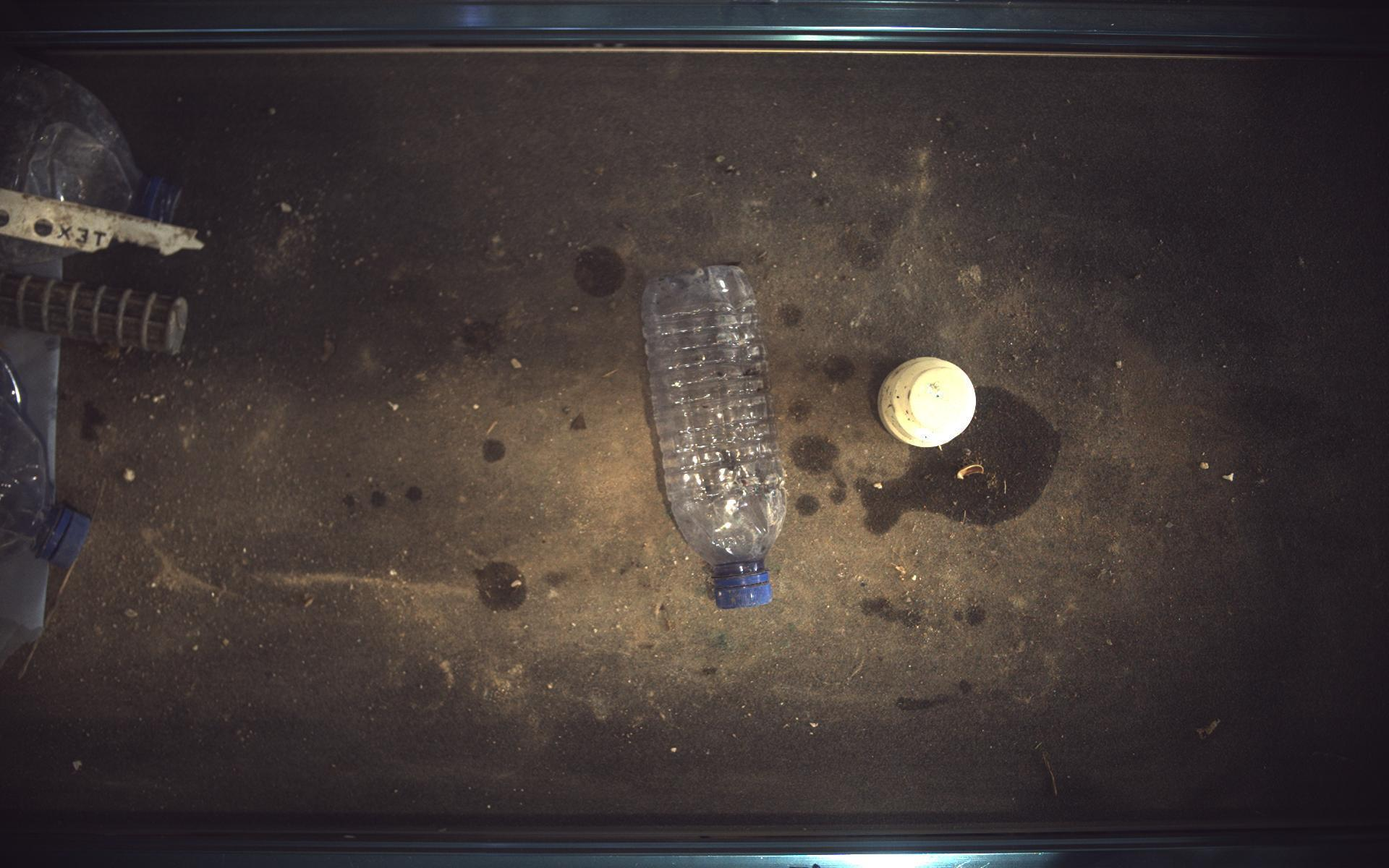general_w: (642, 265, 788, 610)
plastic: (880, 357, 979, 448)
